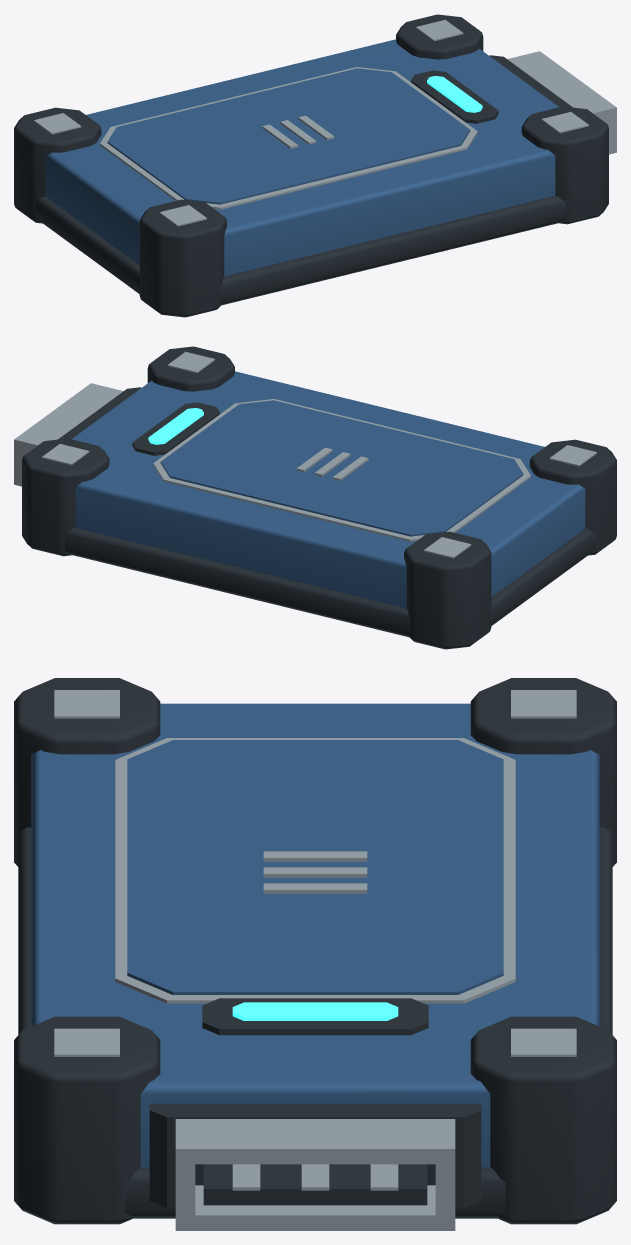
File: SM_MemoStorageDevice_LowPoly.fbx
3 views of the same model, one above another, from view 1: azimuth 30°, elevation 25°; view 2: azimuth 150°, elevation 25°; view 3: azimuth 270°, elevation 25° (orthographic). The views are drawn at different scales.
Visible parts, largest first — view 1: SM_MemoStorageDevice_LowPoly; view 2: SM_MemoStorageDevice_LowPoly; view 3: SM_MemoStorageDevice_LowPoly.
Part boxes in pixels (x1,y1,x2,y2): SM_MemoStorageDevice_LowPoly: (14, 14, 616, 317); SM_MemoStorageDevice_LowPoly: (14, 346, 616, 649); SM_MemoStorageDevice_LowPoly: (14, 678, 616, 1230).
Size of what is drawn, in the model's own units: 12 by 7 by 2.07.
